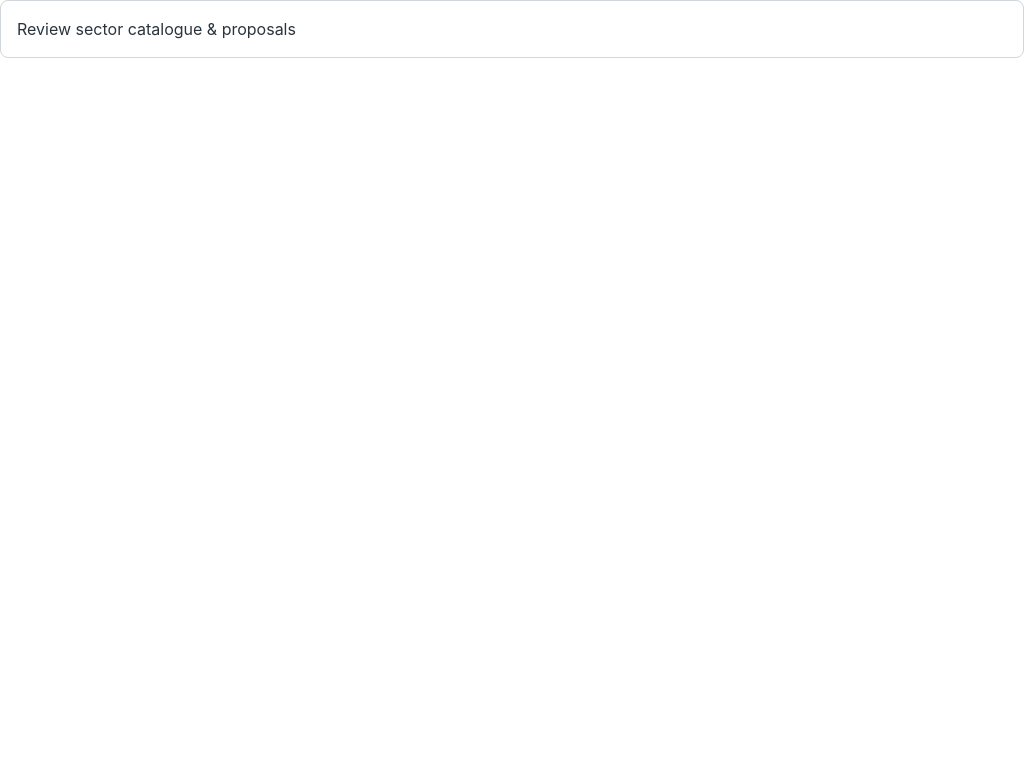
Test: HQ sector proposals › shows affected records without an apply/merge action
Click the button "Review sector catalogue & proposals": (156, 29) 17,17 -> 296,41
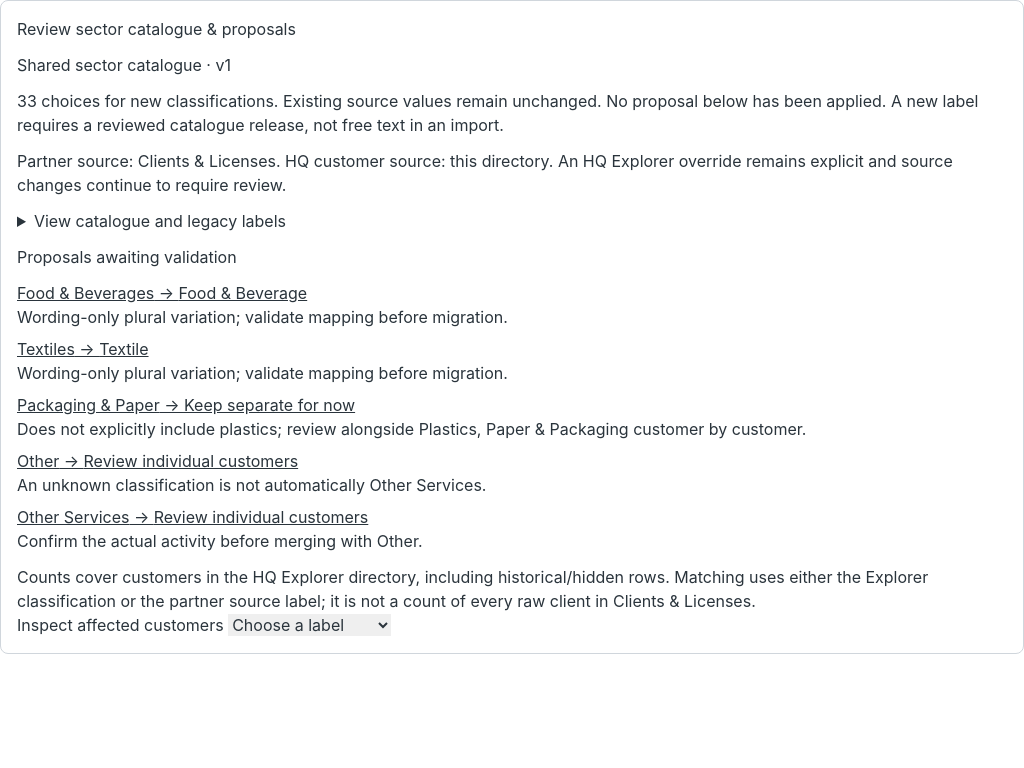
Now the text "No proposal below has been applied" is shown, box 17,91 -> 978,135
Select "Packaging & Paper" in the dropdown: (310, 625) 228,614 -> 391,636
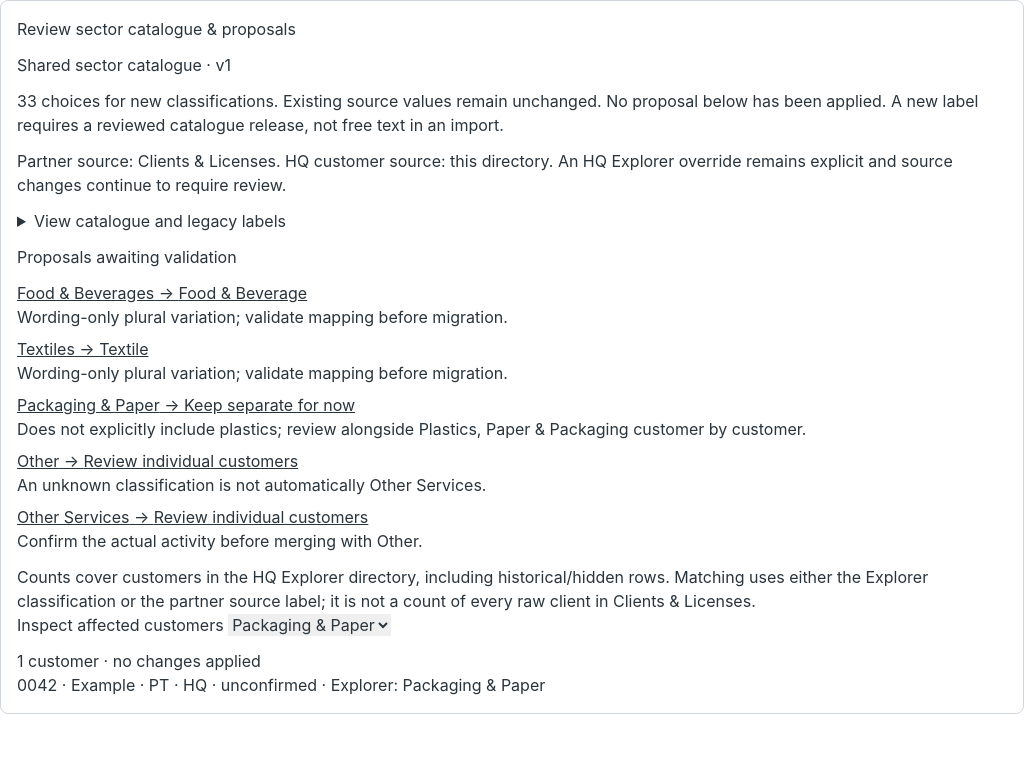
Now the list item "0042 · Example" is shown, box 17,675 -> 545,695
